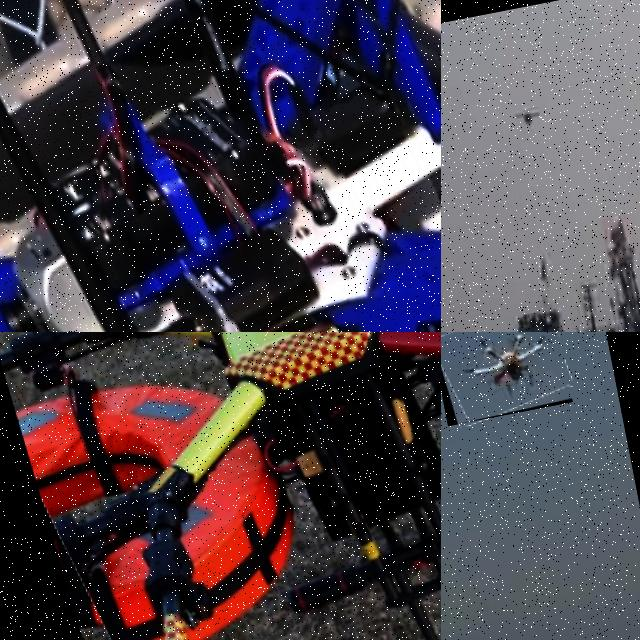0: (441, 332, 573, 426)
drone: (0, 0, 441, 332), (0, 332, 441, 640)
